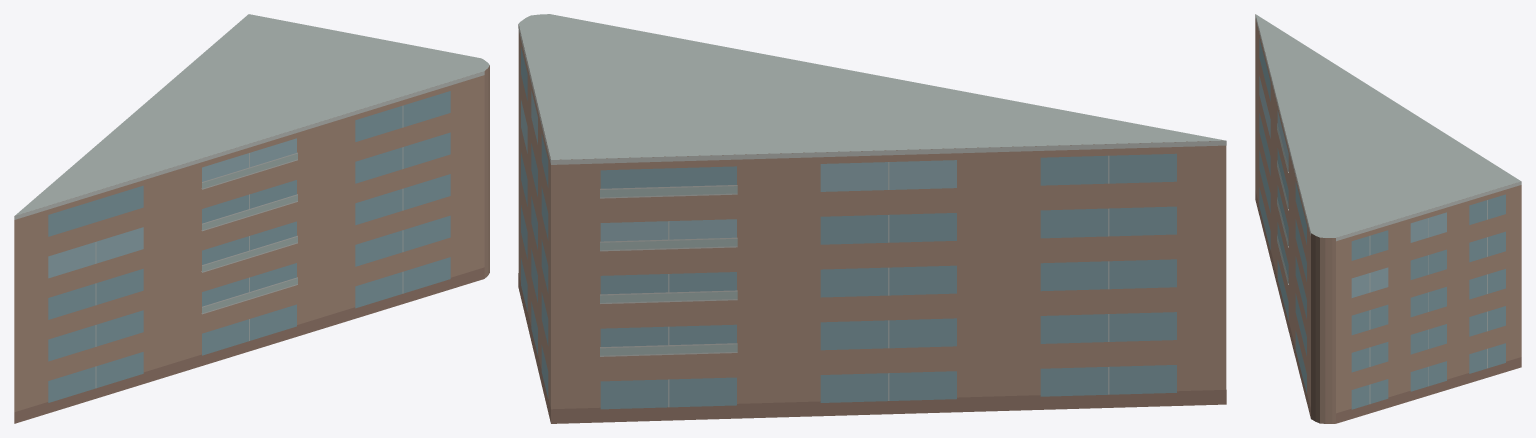
Rendered from survey-upis-32790633.glb.
The picture shows the model from 3 angles, left to right: view 1: azimuth 30°, elevation 25°; view 2: azimuth 150°, elevation 25°; view 3: azimuth 270°, elevation 25°; orthographic projection. The views are drawn at different scales.
Visible parts, largest first — view 1: survey-upis-32790633.tmp; view 2: survey-upis-32790633.tmp; view 3: survey-upis-32790633.tmp.
Boxes of the visible parts, box(x1,y1,x2,y2) form: survey-upis-32790633.tmp: box(14, 14, 489, 423); survey-upis-32790633.tmp: box(518, 14, 1226, 423); survey-upis-32790633.tmp: box(1255, 14, 1521, 423).
Bounding box in the file's own units: 33.59 × 13 × 16.87.
